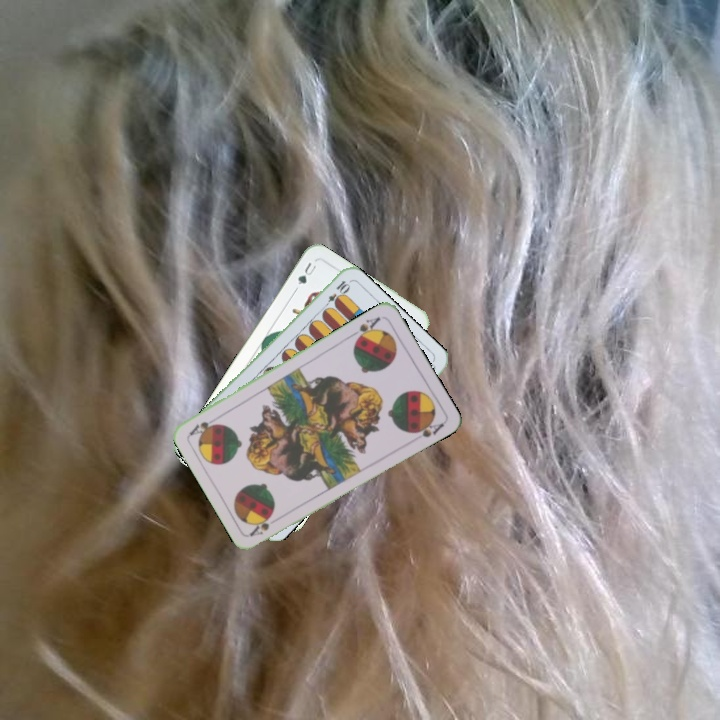E10: (319, 276, 352, 312)
GU: (291, 258, 319, 293)
SA: (347, 312, 383, 344), (246, 512, 283, 539)
